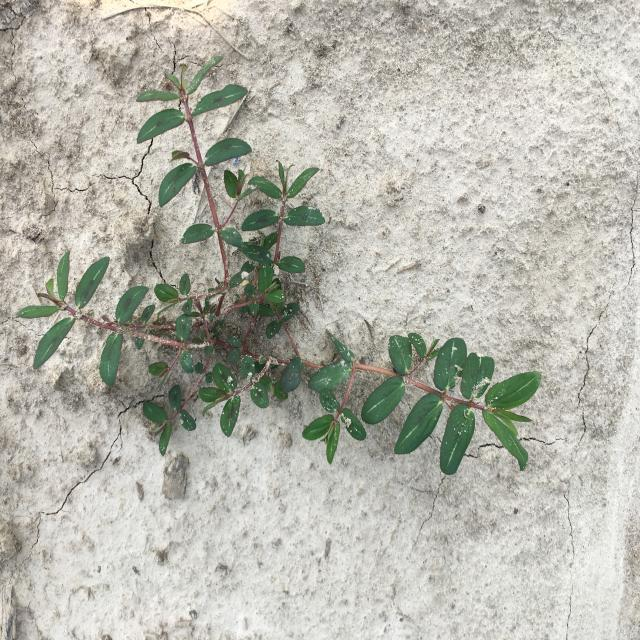SpottedSpurge: (16, 54, 542, 477)
